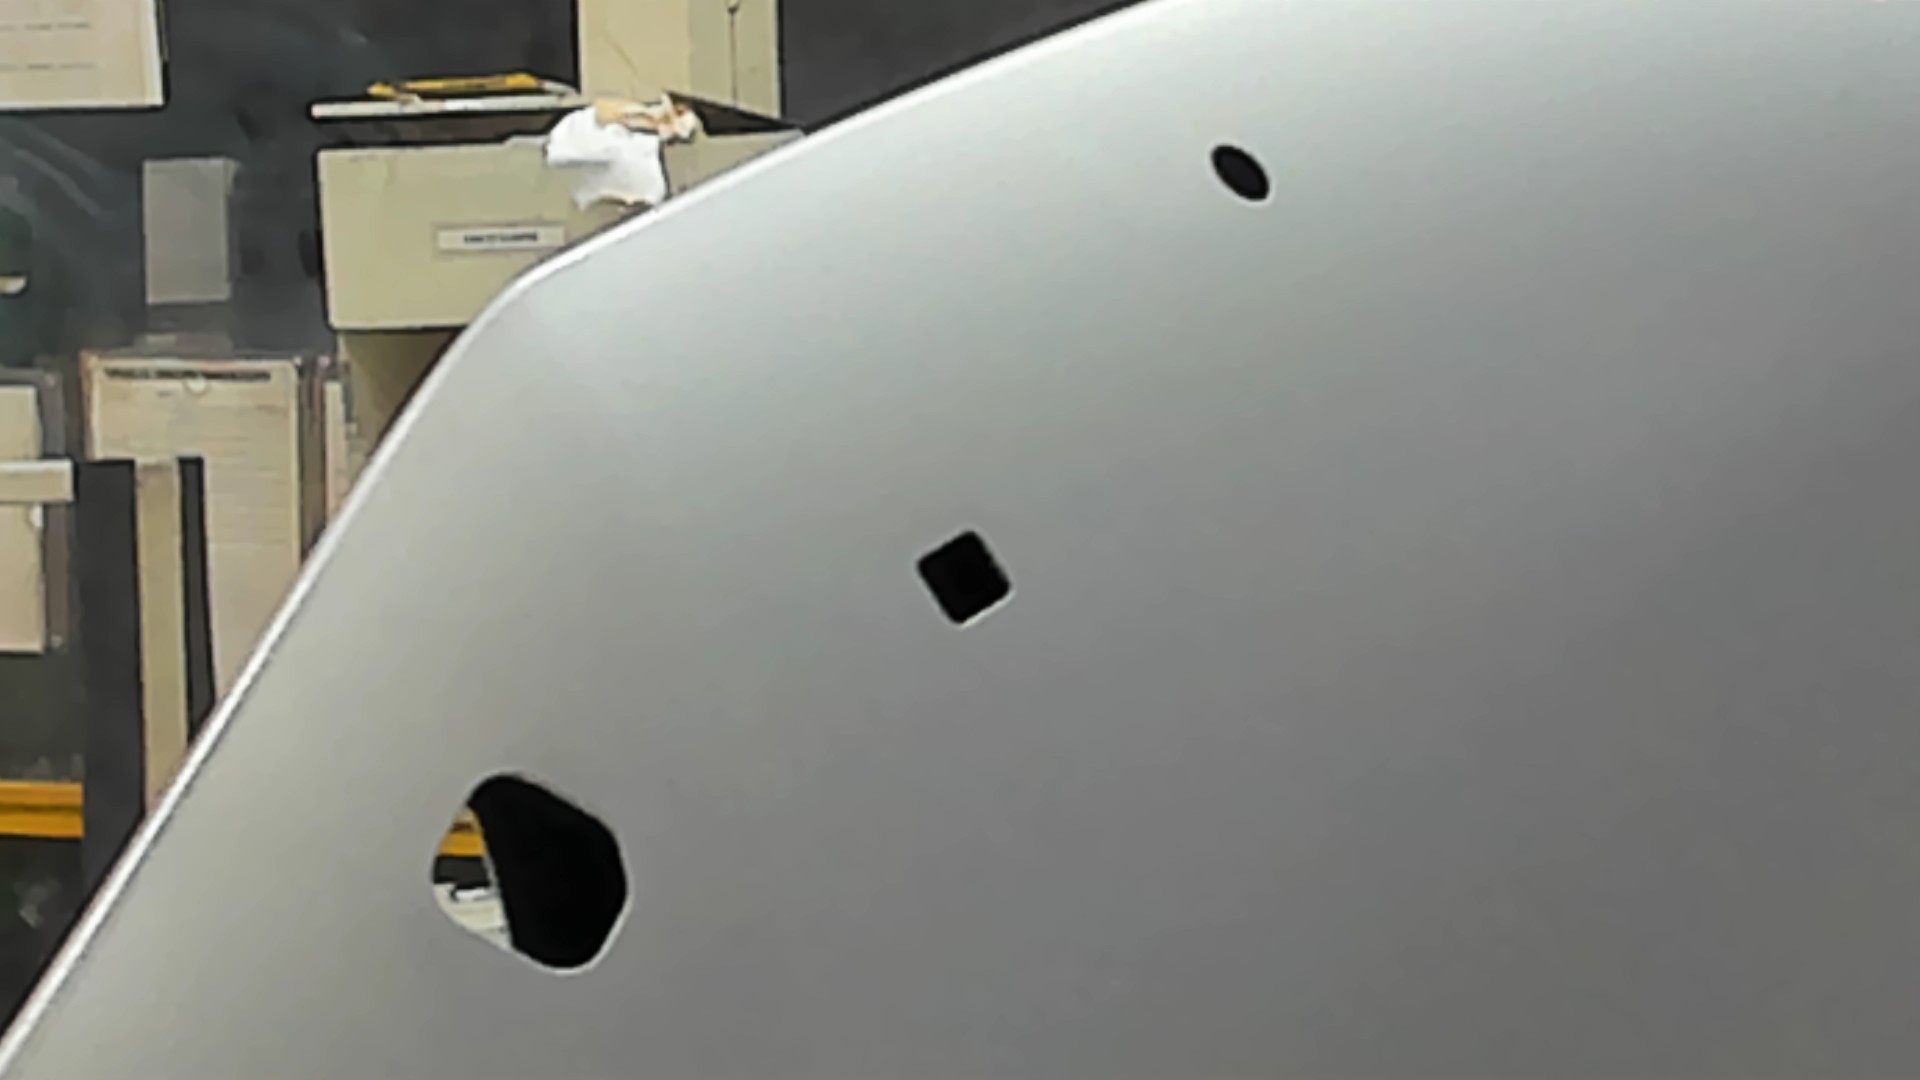Agujero: (916, 530, 1014, 626), (1209, 142, 1274, 204)
Agujerote: (426, 769, 634, 976)
